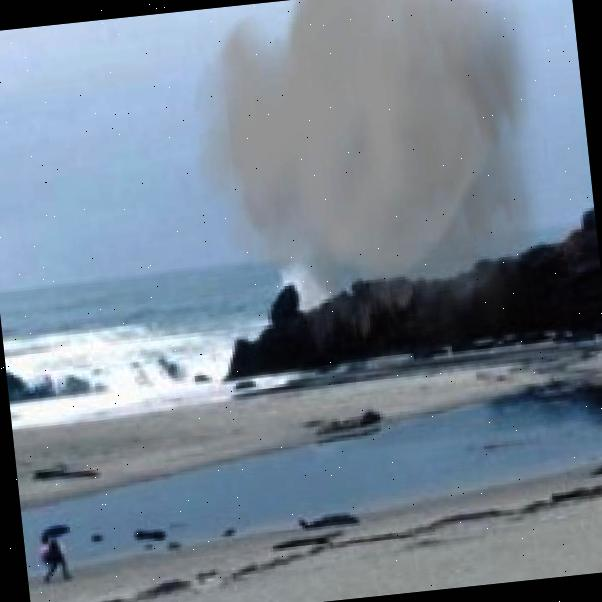smoke: (179, 0, 575, 405)
